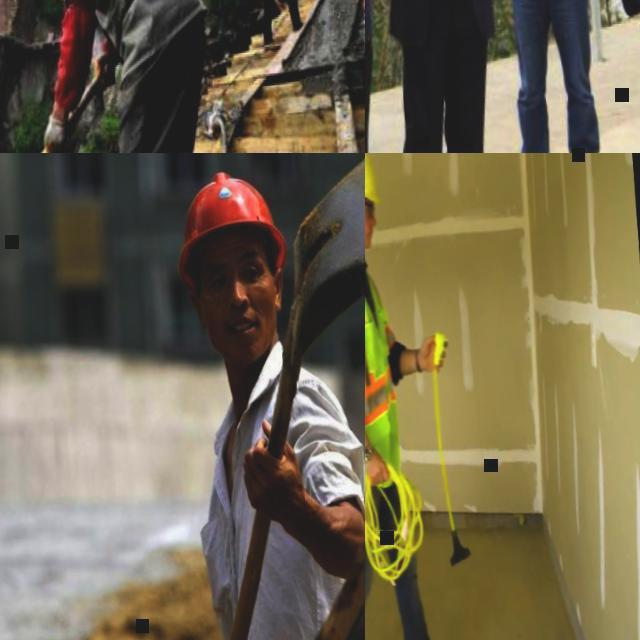helmet: (170, 168, 292, 291), (365, 153, 381, 209)
no_mask: (210, 310, 278, 366), (365, 209, 375, 250)
no_vest: (209, 373, 364, 640), (58, 0, 201, 67)
person: (169, 157, 365, 640), (365, 153, 487, 640), (0, 0, 245, 153), (365, 0, 523, 153), (474, 0, 627, 153), (251, 0, 305, 43)
vest: (365, 250, 406, 443)
